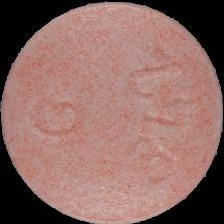0093-5207: (0, 0, 224, 224)
